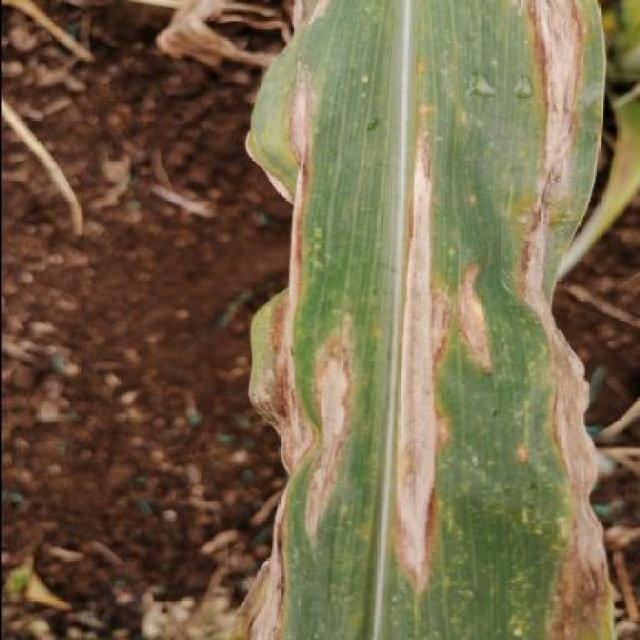Corn_Leaf_Blight: (237, 0, 615, 640)
